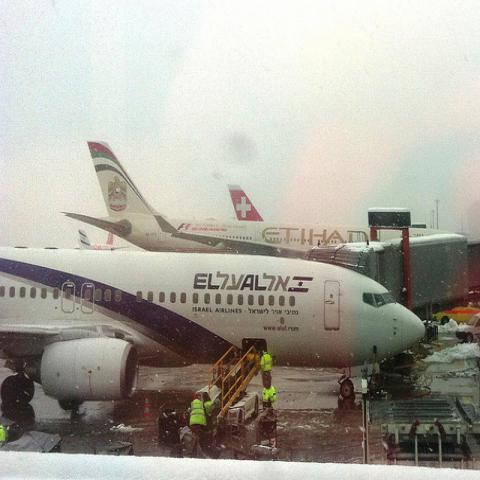car: (454, 312, 480, 343)
truck: (455, 312, 479, 343)
